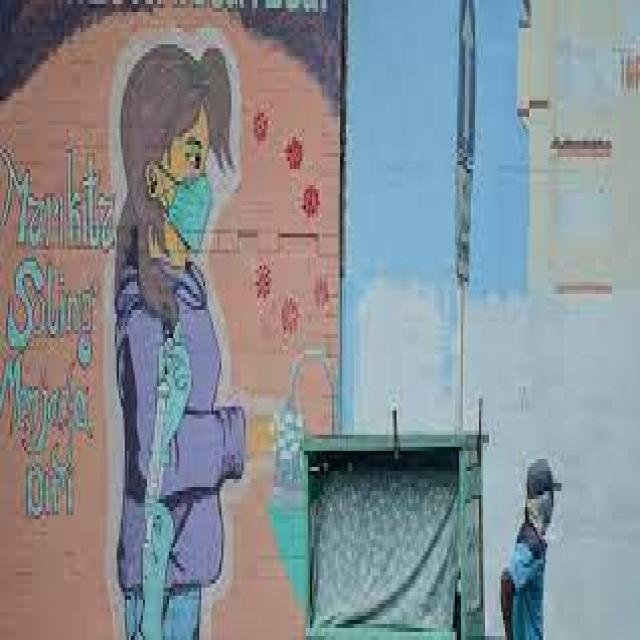-: (4, 37, 329, 640)
